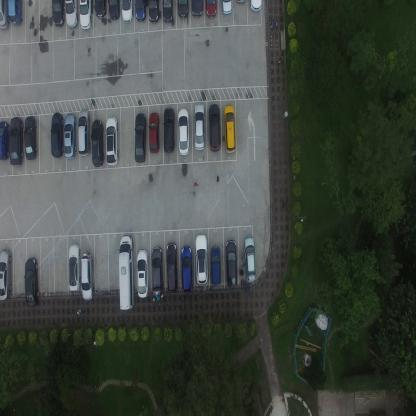car: (119, 234, 136, 310), (23, 257, 40, 309), (8, 116, 24, 167), (135, 248, 150, 299), (80, 251, 95, 301), (194, 232, 208, 285), (105, 115, 119, 168), (222, 104, 236, 155), (224, 239, 238, 290), (0, 247, 13, 301), (180, 244, 194, 294), (134, 111, 147, 164), (67, 243, 81, 292), (165, 242, 178, 294), (151, 246, 164, 298), (23, 114, 37, 162), (208, 101, 221, 152), (177, 106, 190, 157), (91, 117, 104, 168), (77, 108, 90, 157), (243, 236, 256, 284), (162, 106, 175, 154), (50, 111, 63, 159), (193, 102, 205, 152), (64, 112, 76, 161), (148, 110, 160, 154), (210, 244, 221, 286), (64, 0, 78, 30), (79, 0, 92, 32), (0, 121, 10, 162), (8, 0, 23, 27), (51, 0, 64, 28), (147, 0, 160, 25), (0, 0, 10, 30), (121, 0, 134, 23), (162, 0, 174, 23), (204, 0, 218, 19), (134, 0, 146, 22), (176, 0, 189, 20), (108, 0, 120, 20), (95, 0, 107, 20), (190, 0, 203, 18), (220, 0, 233, 15), (249, 0, 262, 13)
